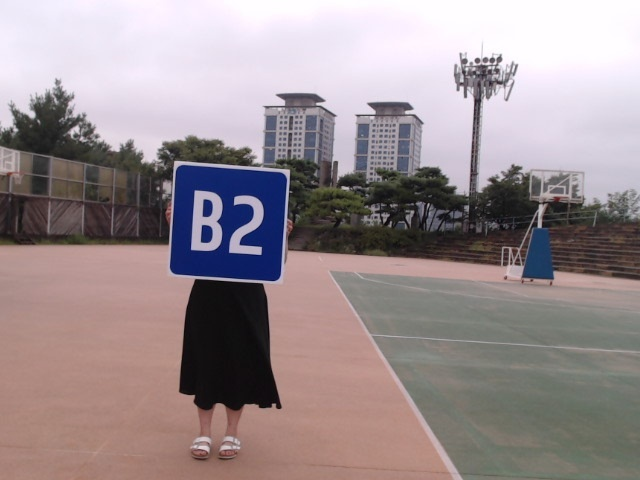delivery_b2: (168, 162, 289, 282)
